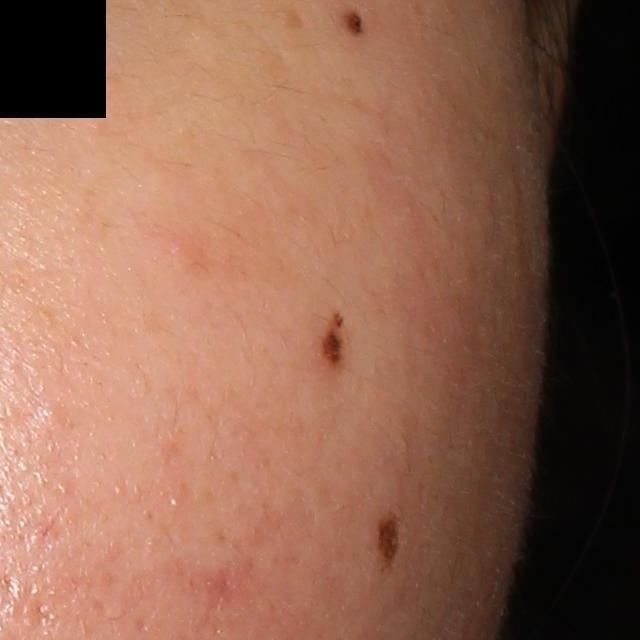comedo: (34, 402, 63, 428)
nevus: (377, 507, 406, 573), (318, 309, 350, 368), (342, 7, 367, 37)
